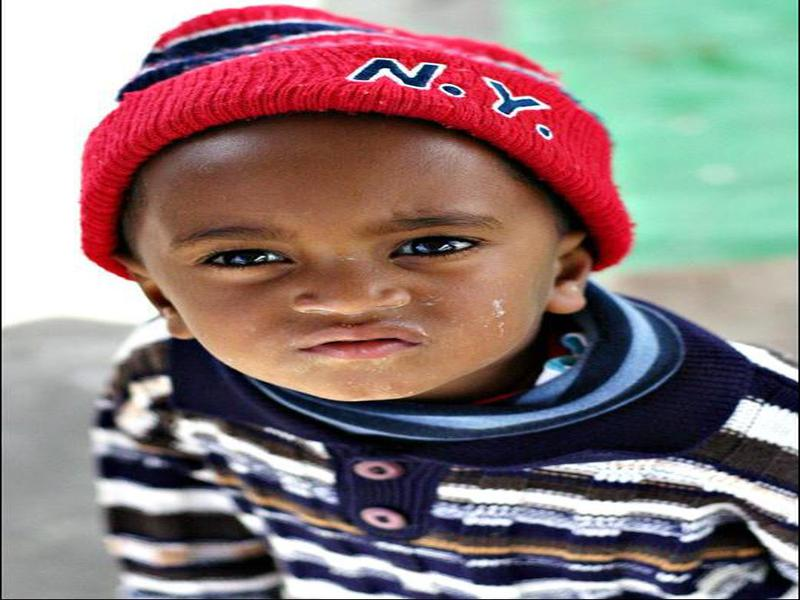person: (85, 5, 799, 600)
